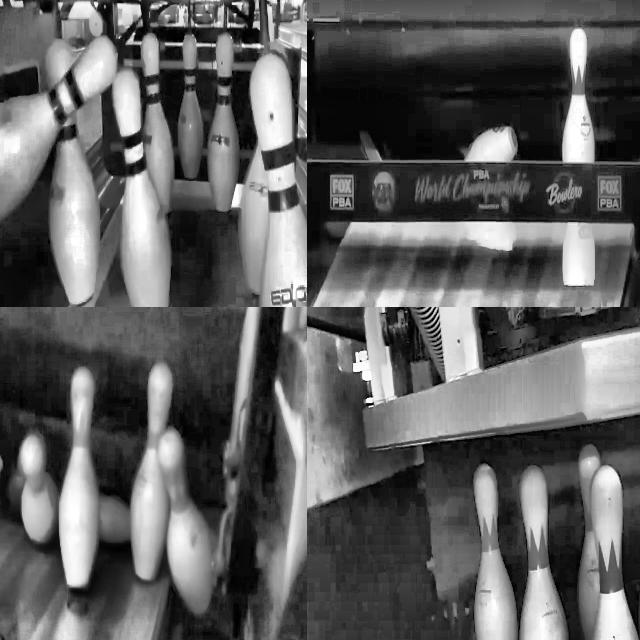bowling-pins: (60, 368, 100, 591), (132, 364, 172, 581), (591, 464, 640, 640), (520, 465, 569, 640), (474, 463, 517, 640), (562, 27, 595, 162), (578, 444, 600, 640)
sweep board: (307, 159, 640, 246)
